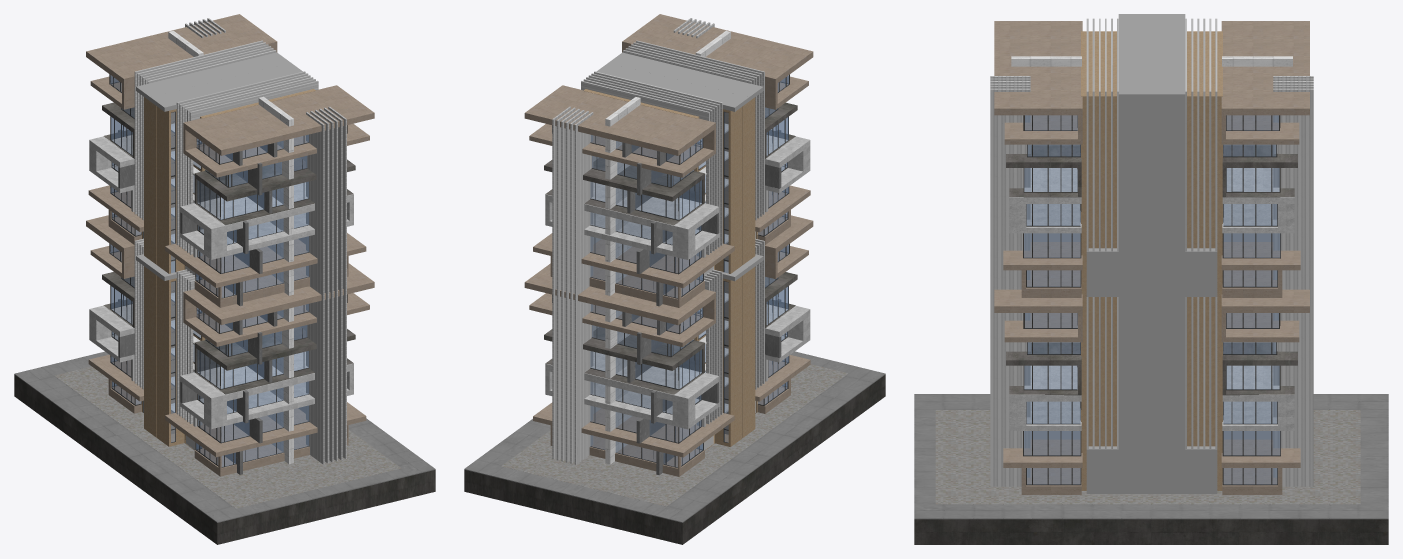
File: modern_residential_tower.gltf
3 views of the same model, side by side, from view 1: azimuth 30°, elevation 25°; view 2: azimuth 150°, elevation 25°; view 3: azimuth 270°, elevation 25° (orthographic). The views are drawn at different scales.
Visible parts, largest first — view 1: Box025_Ceramic_0; view 2: Box025_Ceramic_0; view 3: Box025_Ceramic_0.
Boxes of the visible parts, x1,y1,x2,y2 form: Box025_Ceramic_0: (14,14,435,544); Box025_Ceramic_0: (464,14,885,544); Box025_Ceramic_0: (914,14,1388,544).
Size of the model in its own units: 36.12 by 58 by 58.18.
15 materials, 11 textured.
